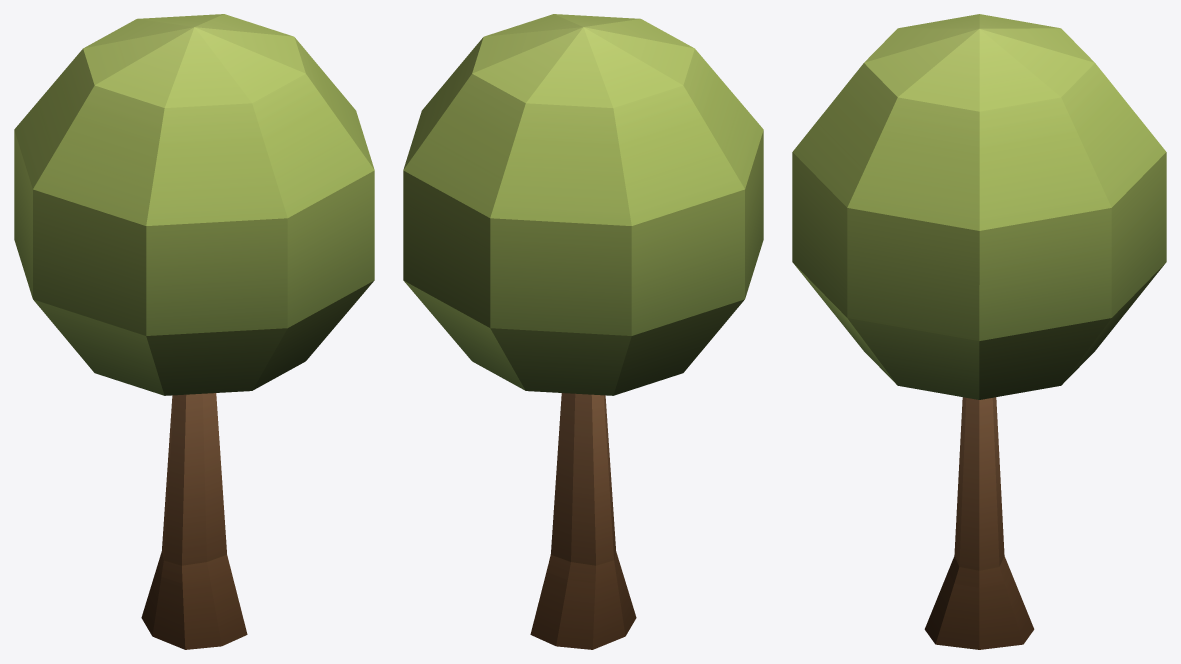
The model's file is Tree_03.fbx.
3 renders of one model, left to right at view 1: azimuth 30°, elevation 25°; view 2: azimuth 150°, elevation 25°; view 3: azimuth 270°, elevation 25°, orthographic.
Parts seen in each view (by area): view 1: tree_03.002, tree_03.003; view 2: tree_03.002, tree_03.003; view 3: tree_03.002, tree_03.003.
Boxes of the visible parts, x1,y1,x2,y2 form: tree_03.002: (14, 14, 374, 574); tree_03.003: (141, 559, 247, 649); tree_03.002: (403, 14, 763, 574); tree_03.003: (530, 559, 636, 649); tree_03.002: (792, 14, 1166, 579); tree_03.003: (924, 564, 1034, 649).
Bounding box in the file's own units: 270 × 479 × 270.
Materials: 1 (1 with a texture image).
